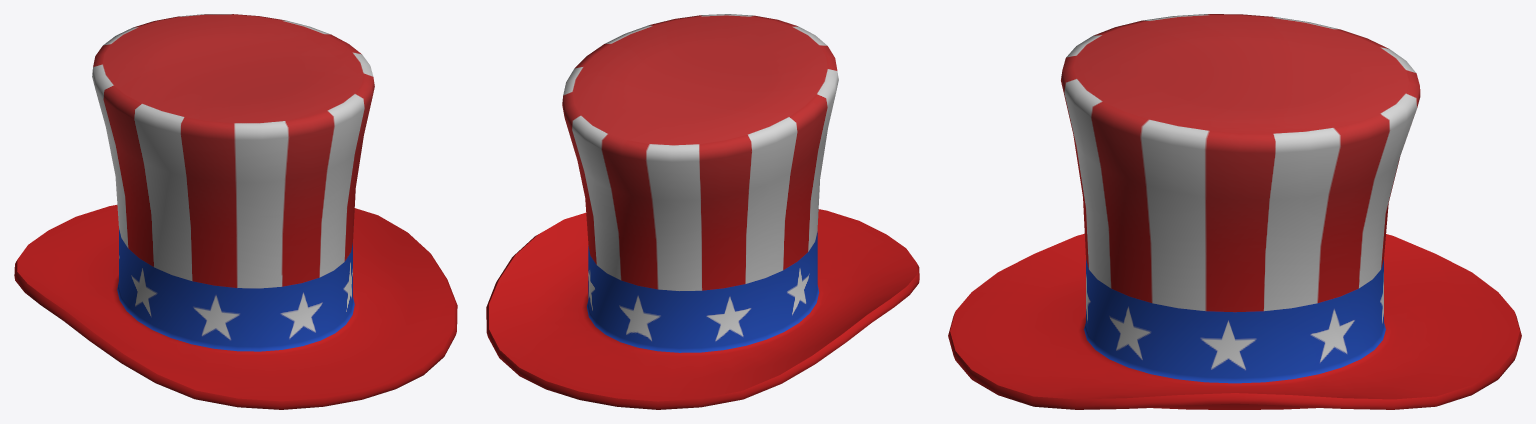
File: UncleSamHat.FBX
3 views of the same model, side by side, from view 1: azimuth 30°, elevation 25°; view 2: azimuth 150°, elevation 25°; view 3: azimuth 270°, elevation 25° (orthographic). The views are drawn at different scales.
Visible parts, largest first — view 1: UncleSamHat; view 2: UncleSamHat; view 3: UncleSamHat.
Boxes of the visible parts, bbox=[...] form: UncleSamHat: bbox=[14, 14, 457, 409]; UncleSamHat: bbox=[486, 14, 919, 409]; UncleSamHat: bbox=[948, 14, 1521, 409].
Size of the model in its own units: 56.27 by 37.83 by 71.87.
Materials: 1 (1 with a texture image).
